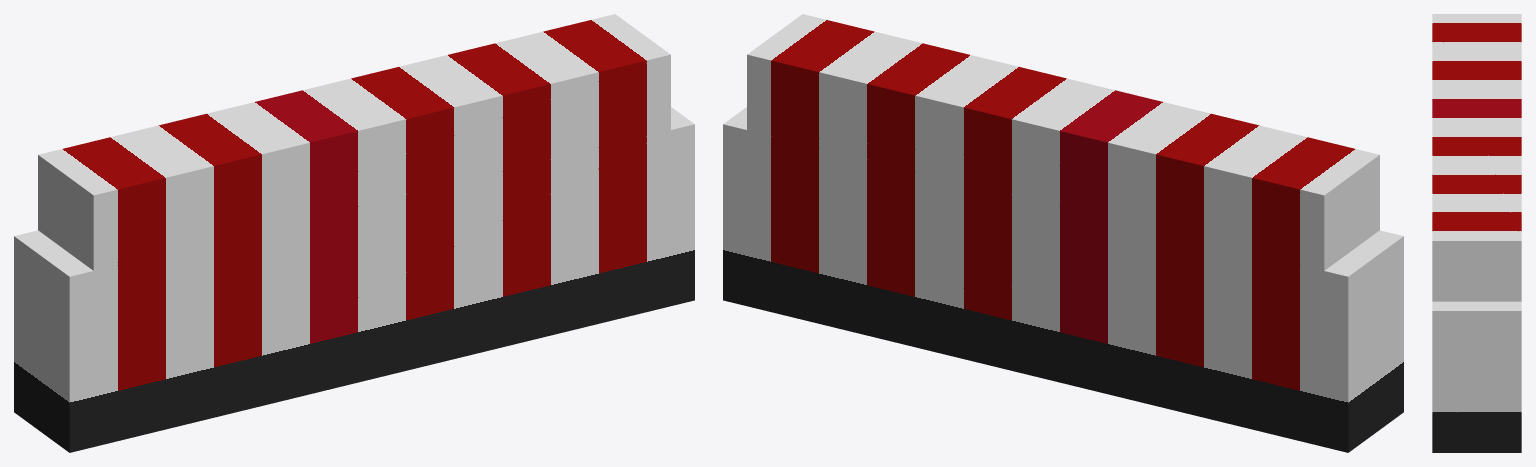
The model's file is Stop_Wall_0.fbx.
3 views of the same model, side by side, from view 1: azimuth 30°, elevation 25°; view 2: azimuth 150°, elevation 25°; view 3: azimuth 270°, elevation 25° (orthographic). The views are drawn at different scales.
Parts seen in each view (by area): view 1: Matrix_5; view 2: Matrix_5; view 3: Matrix_5.
Boxes of the visible parts, x1,y1,x2,y2 form: Matrix_5: (14, 14, 694, 452); Matrix_5: (723, 14, 1403, 452); Matrix_5: (1432, 14, 1521, 452).
Bounding box in the file's own units: 26 × 10 × 4.
